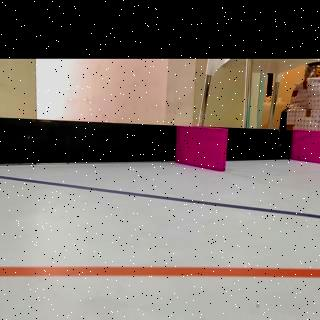xparking: (178, 128, 228, 166), (295, 131, 320, 163)
